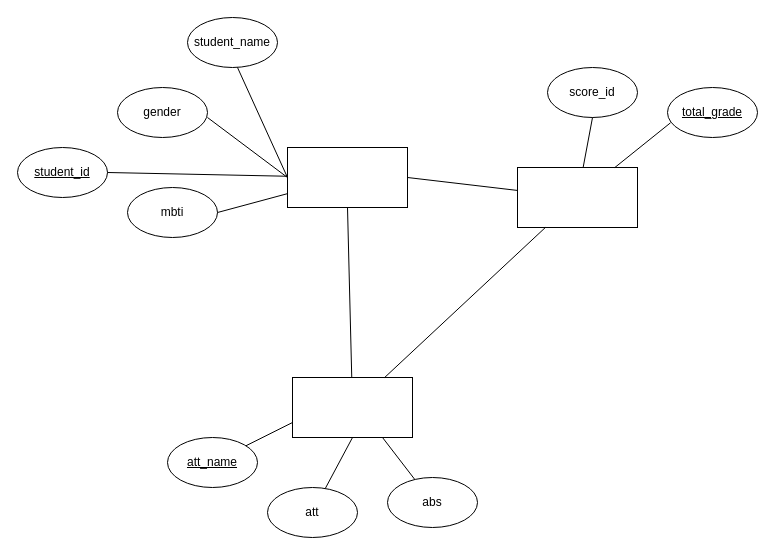
Some shapes in this 775 by 555 pixel diagram are drawn without their labels. The centre of each missing label's shape, as x and y in pixels:
"attendance" goes at [352,407].
"score" goes at [577,197].
"stuendent" goes at [347,177].
